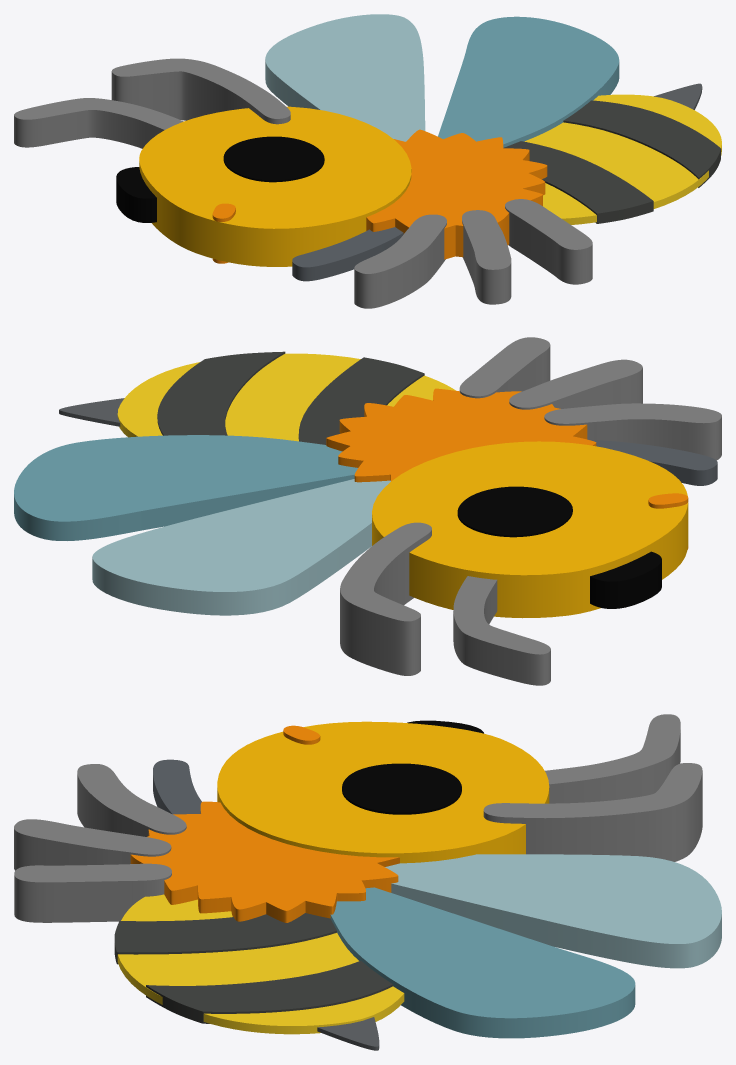
Rendered from emoji_u1f41d.glb.
3 renders of one model, top to bottom at view 1: azimuth 30°, elevation 25°; view 2: azimuth 150°, elevation 25°; view 3: azimuth 270°, elevation 25°, orthographic. The views are drawn at different scales.
Visible parts, largest first — view 1: emoji_u1f41d; view 2: emoji_u1f41d; view 3: emoji_u1f41d.
Boxes of the visible parts, bbox=[...] form: emoji_u1f41d: bbox=[14, 14, 721, 308]; emoji_u1f41d: bbox=[14, 337, 721, 685]; emoji_u1f41d: bbox=[14, 714, 721, 1050].
Size of the model in its own units: 0.0338 by 0.0028 by 0.0317.
